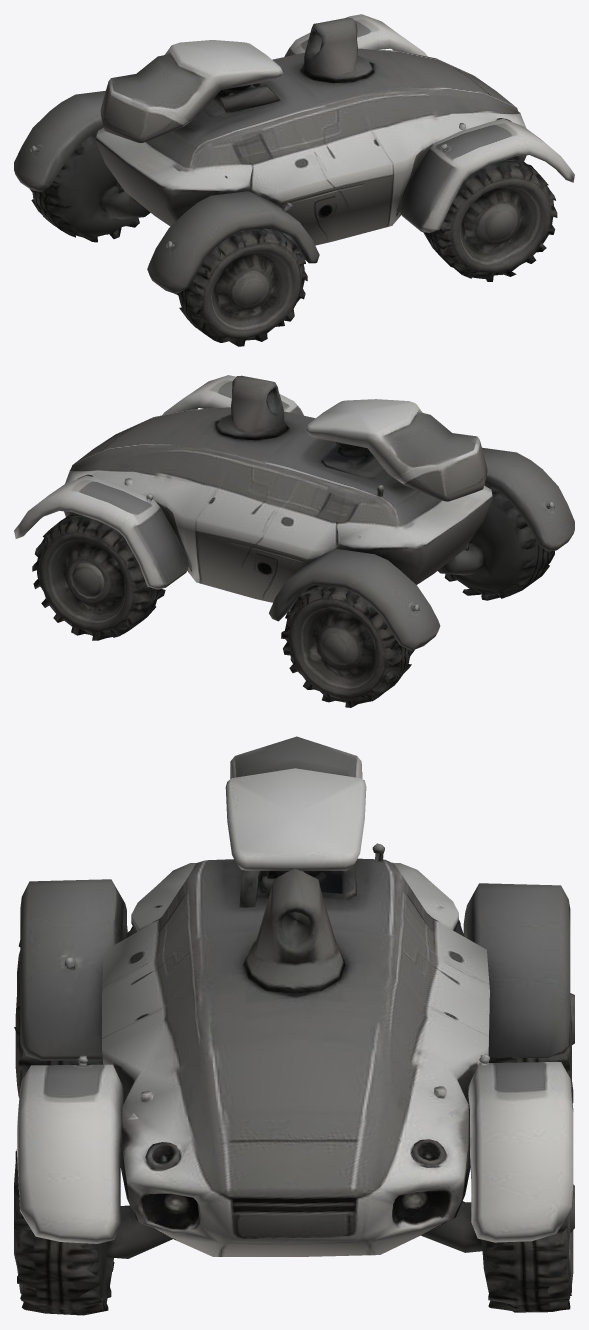
The model's file is chassis-scout.glb.
3 views of the same model, one above another, from view 1: azimuth 30°, elevation 25°; view 2: azimuth 150°, elevation 25°; view 3: azimuth 270°, elevation 25° (orthographic). The views are drawn at different scales.
Parts seen in each view (by area): view 1: tripo_node_60f573f5-fe77-48e6-9d21-cf0fb62770f4; view 2: tripo_node_60f573f5-fe77-48e6-9d21-cf0fb62770f4; view 3: tripo_node_60f573f5-fe77-48e6-9d21-cf0fb62770f4.
Boxes of the visible parts, x1=… form: tripo_node_60f573f5-fe77-48e6-9d21-cf0fb62770f4: x1=14, y1=14, x2=574, y2=346; tripo_node_60f573f5-fe77-48e6-9d21-cf0fb62770f4: x1=14, y1=375, x2=574, y2=707; tripo_node_60f573f5-fe77-48e6-9d21-cf0fb62770f4: x1=14, y1=736, x2=574, y2=1315.
Bounding box in the file's own units: 0.9708 × 0.5078 × 0.709.
Materials: 1 (1 with a texture image).
